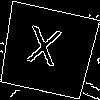X: (22, 25, 63, 77)
